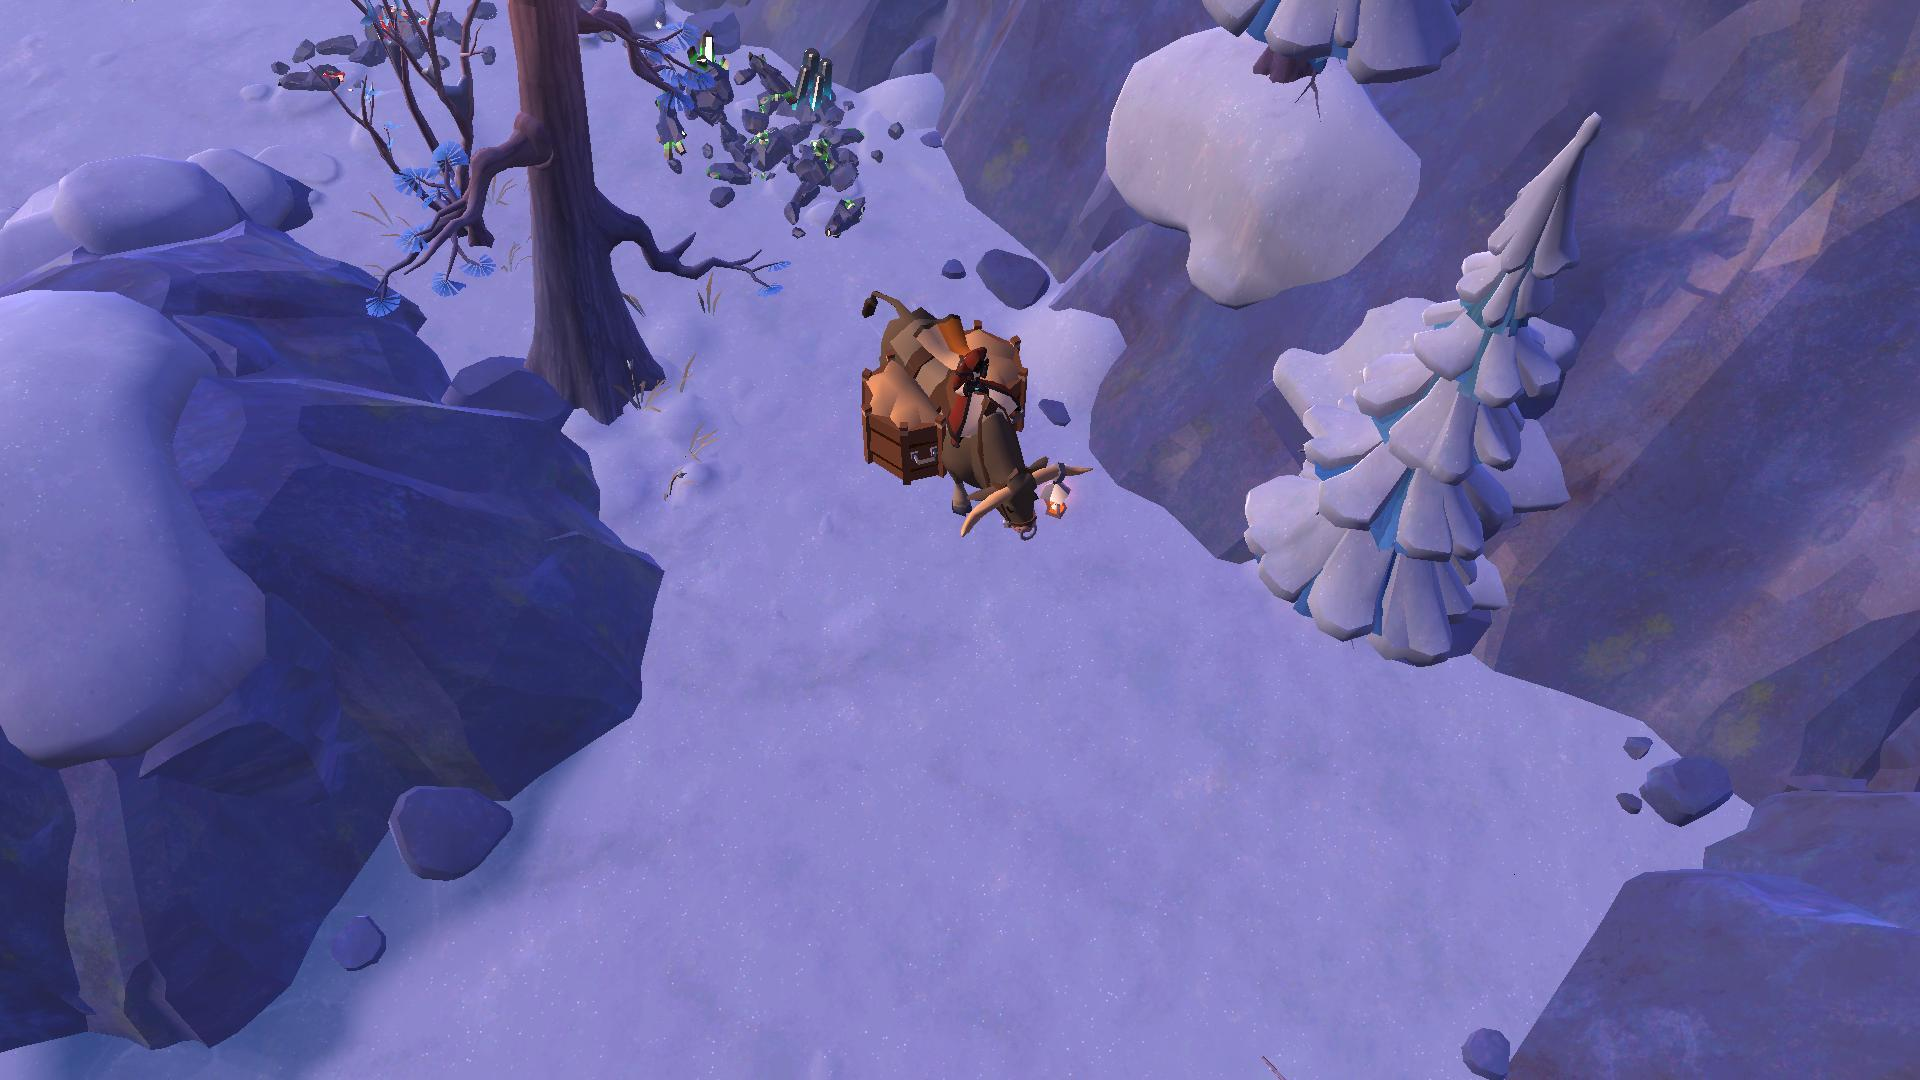ore_t4: (791, 44, 841, 115)
